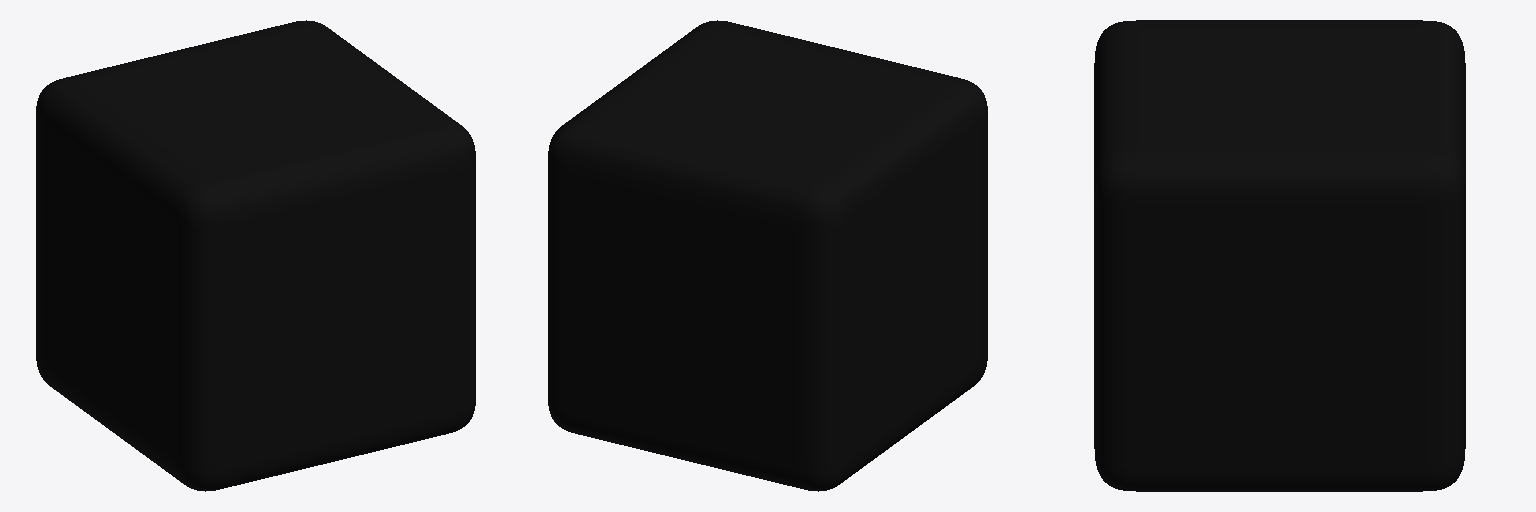
URDF robot description (block):
<robot name="block">
  <link name="block_base_link">
    <contact>
      <lateral_friction value="0.2"/>
      <rolling_friction value="0.001"/>
      <contact_cfm value="0.0"/>
      <contact_erp value="1.0"/>
    </contact>
    <inertial>
      <origin rpy="0 0 0" xyz="0 0 0"/>
      <mass value="0.05"/>
      <inertia ixx="0" ixy="0" ixz="0" iyy="0" iyz="0" izz="0"/>
    </inertial>
    <visual>
      <origin rpy="0 0 0" xyz="0 0 0"/>
      <geometry>
        <mesh filename="clevr_cube.obj" scale="1 1 1"/>
      </geometry>
      <material name="tray_material">
        <color rgba="0.1 0.1 0.1 1"/>
      </material>
    </visual>
    <collision>
      <origin rpy="0 0 0" xyz="0 0 0"/>
      <geometry>
        <mesh filename="clevr_cube.obj" scale="1 1 1"/>
      </geometry>
    </collision>
  </link>
</robot>

--- Render facts (derived) ---
3 views of the same robot in one strip: view 1: azimuth 30°, elevation 25°; view 2: azimuth 150°, elevation 25°; view 3: azimuth 270°, elevation 25° (orthographic).
Model block with 1 links and 0 joints (none), rooted at block_base_link, posed every joint at zero.
Visible links, largest first — view 1: block_base_link; view 2: block_base_link; view 3: block_base_link.
Link boxes in pixels (left/top/right/bottom): block_base_link: left=36, top=20, right=475, bottom=491; block_base_link: left=548, top=20, right=987, bottom=491; block_base_link: left=1094, top=20, right=1465, bottom=491.
Bounding box of the posed robot: 0.04 × 0.04 × 0.04 m (x, y, z).
Meshes: 1 distinct files referenced, 1 mesh visuals loaded (1 OBJ).